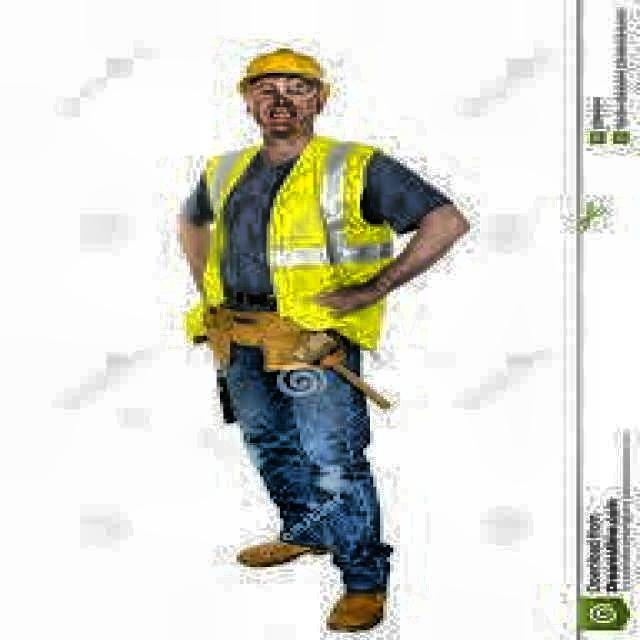safety_jacket: (185, 138, 395, 352)
